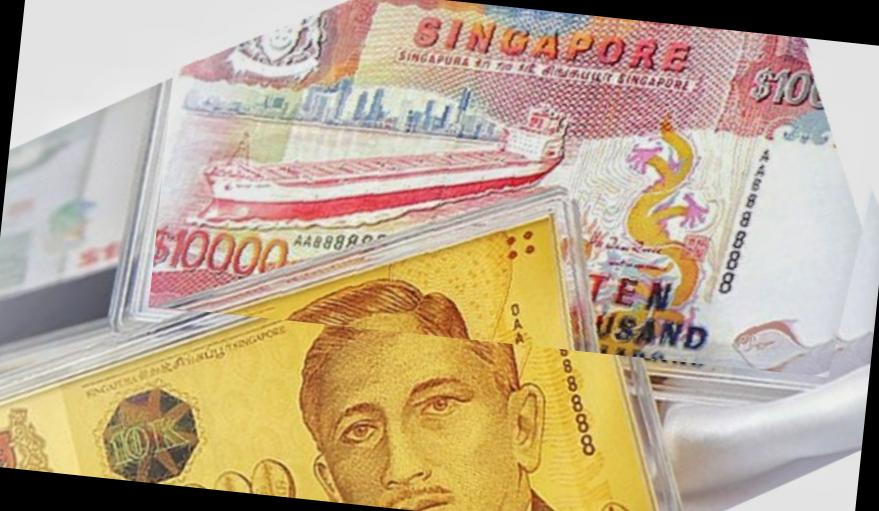10000SingaporeDollar: (148, 0, 879, 380)
